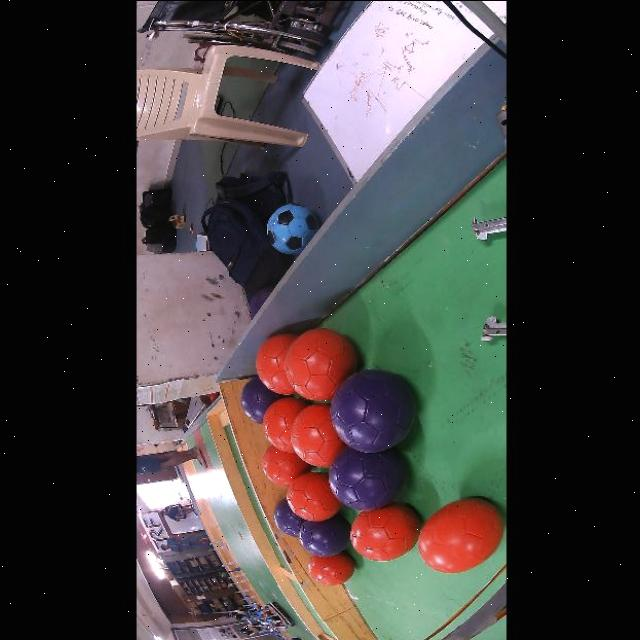P: (330, 368, 413, 451), (328, 446, 404, 509), (299, 513, 350, 556), (240, 376, 283, 423), (273, 498, 304, 536), (249, 286, 273, 318), (290, 637, 301, 640)
R: (417, 496, 503, 572), (285, 328, 357, 400), (350, 502, 420, 559), (290, 403, 345, 467), (286, 471, 341, 520), (262, 396, 308, 451), (255, 333, 296, 394), (262, 445, 309, 485), (307, 552, 354, 584)
